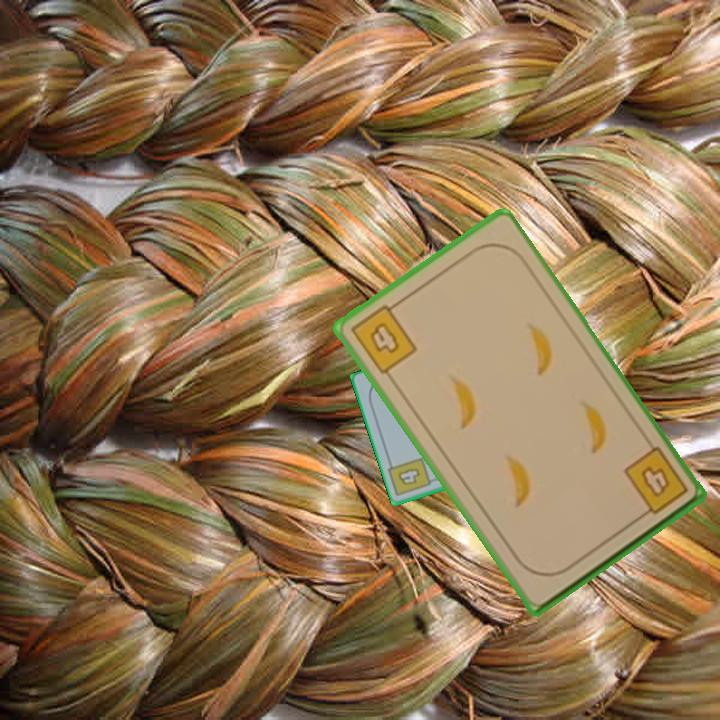4b: (346, 297, 420, 377), (619, 443, 691, 522), (394, 464, 423, 489)
